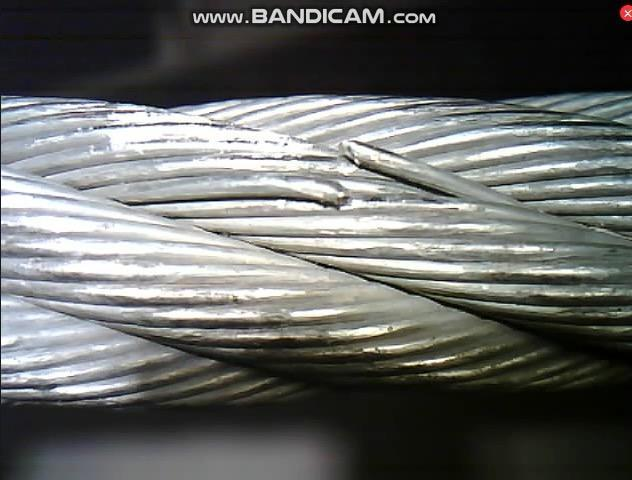break: (289, 133, 389, 213)
